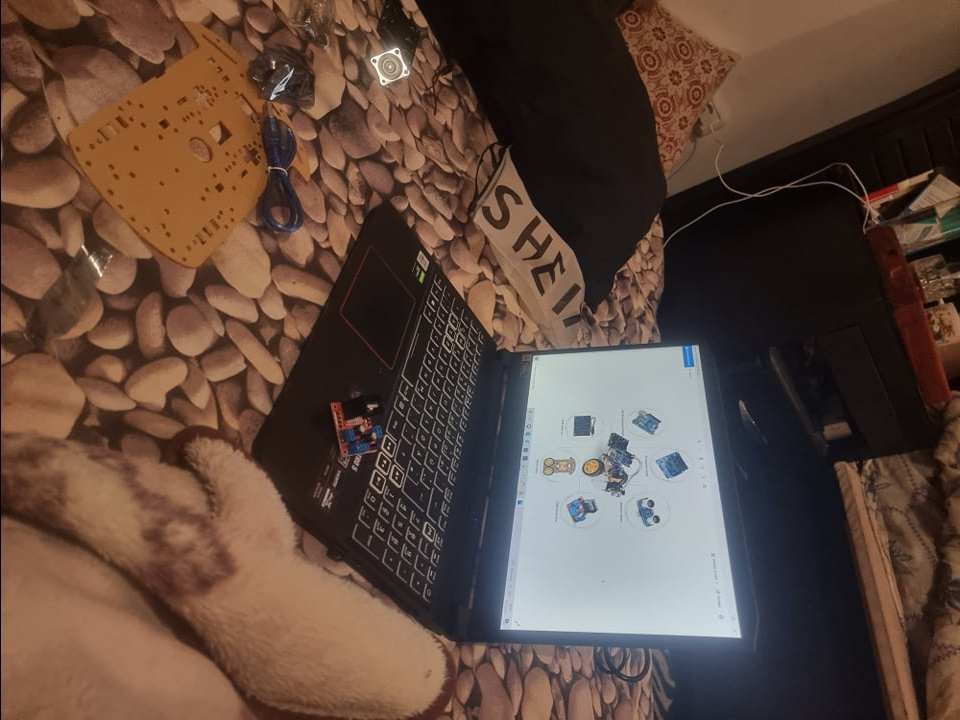5V EXPANSION: (655, 451, 688, 479)
BATTERY BOX: (372, 1, 425, 56), (572, 414, 589, 436)
MOTOR: (329, 389, 391, 460), (565, 495, 597, 526)
SENSOR: (637, 496, 657, 529)
UNO R3: (630, 408, 661, 435)
